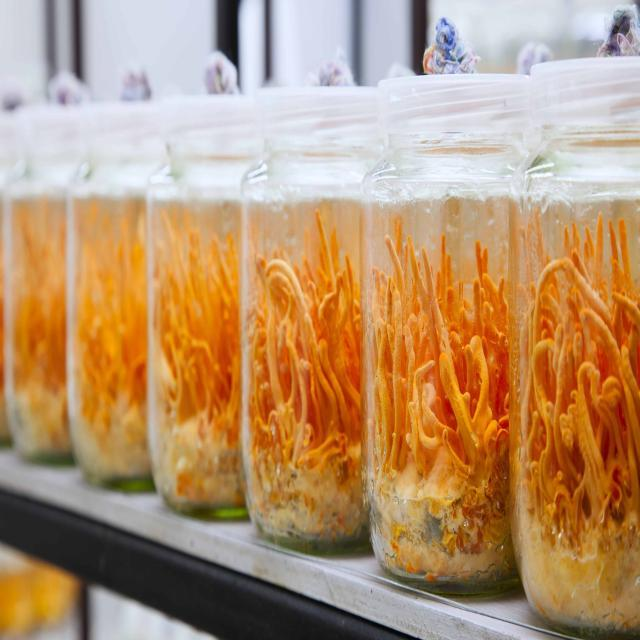Cordyceps militaris: (375, 220, 514, 508), (528, 213, 640, 549), (246, 204, 359, 476), (154, 212, 238, 447), (74, 216, 146, 431), (9, 212, 69, 397)
